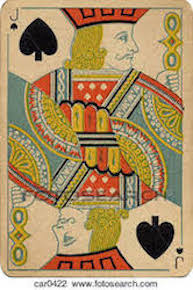JackOfSpades: (1, 1, 193, 276)
